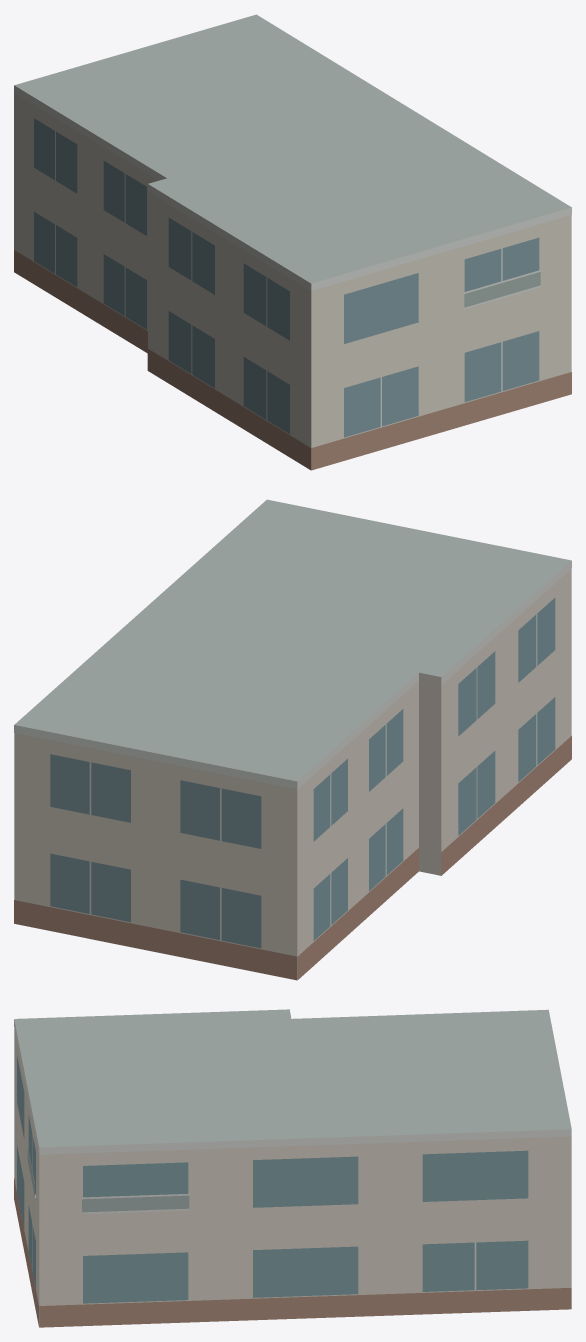
Rendered from survey-upis-32702352.glb.
The picture shows the model from 3 angles, top to bottom: view 1: azimuth 30°, elevation 25°; view 2: azimuth 150°, elevation 25°; view 3: azimuth 270°, elevation 25°; orthographic projection. The views are drawn at different scales.
Visible parts, largest first — view 1: survey-upis-32702352.tmp; view 2: survey-upis-32702352.tmp; view 3: survey-upis-32702352.tmp.
Part boxes in pixels (<box>): survey-upis-32702352.tmp: <box>14,14,571,470</box>; survey-upis-32702352.tmp: <box>14,499,571,980</box>; survey-upis-32702352.tmp: <box>14,1009,571,1327</box>.
Bounding box in the file's own units: 10.05 × 6.1 × 17.14.
